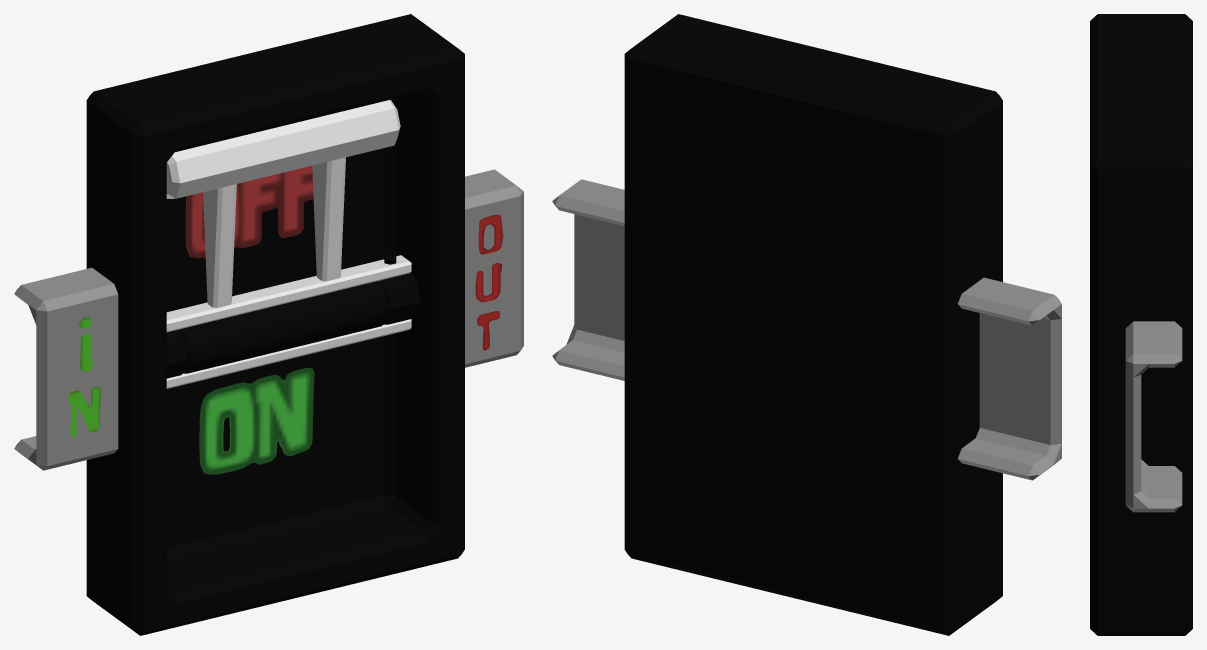
File: EL_Panel_Switch01.fbx
The picture shows the model from 3 angles, left to right: view 1: azimuth 30°, elevation 25°; view 2: azimuth 150°, elevation 25°; view 3: azimuth 270°, elevation 25°; orthographic projection. The views are drawn at different scales.
Parts seen in each view (by area): view 1: Cube.001, Switch_Lever.001, Switch_Poles.001; view 2: Cube.001; view 3: Cube.001.
Boxes of the visible parts, bbox=[...] form: Cube.001: bbox=[14, 14, 523, 635]; Switch_Lever.001: bbox=[166, 99, 411, 388]; Switch_Poles.001: bbox=[166, 272, 420, 378]; Cube.001: bbox=[552, 14, 1061, 635]; Cube.001: bbox=[1090, 14, 1192, 635].
Size of the model in its own units: 21.81 by 21.81 by 4.26.
